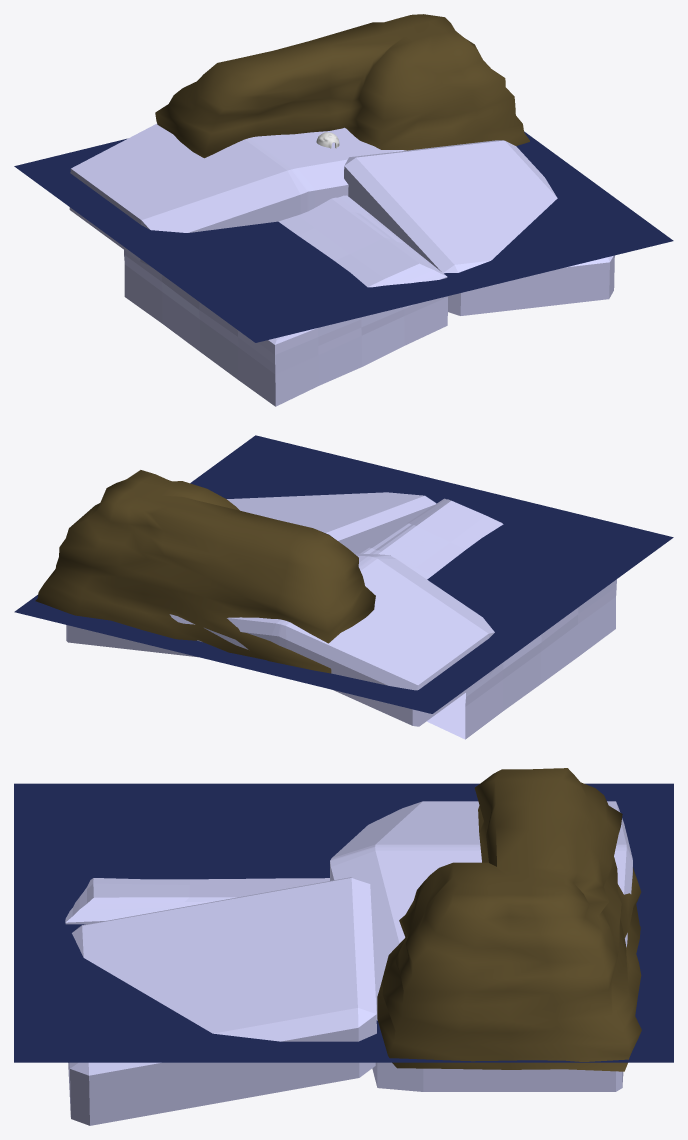
File: Prototype_Base.fbx
3 views of the same model, one above another, from view 1: azimuth 30°, elevation 25°; view 2: azimuth 150°, elevation 25°; view 3: azimuth 270°, elevation 25° (orthographic). The views are drawn at different scales.
Visible parts, largest first — view 1: igloo, Cube.003, Cube.002, Cube.001, Cube; view 2: Cube.003, igloo, Cube, Cube.001, Cube.002; view 3: igloo, Cube.003, Cube.002, Cube, Cube.001.
Part boxes in pixels (x1=…): igloo: x1=14, y1=131, x2=673, y2=342; Cube.003: x1=155, y1=14, x2=529, y2=158; Cube.002: x1=344, y1=140, x2=614, y2=315; Cube.001: x1=124, y1=195, x2=447, y2=406; Cube: x1=69, y1=123, x2=406, y2=266; Cube.003: x1=35, y1=470, x2=375, y2=673; igloo: x1=14, y1=435, x2=673, y2=713; Cube: x1=66, y1=553, x2=495, y2=726; Cube.001: x1=360, y1=498, x2=616, y2=739; Cube.002: x1=227, y1=492, x2=436, y2=553; igloo: x1=14, y1=783, x2=673, y2=1062; Cube.003: x1=377, y1=768, x2=641, y2=1071; Cube.002: x1=68, y1=877, x2=376, y2=1125; Cube: x1=330, y1=801, x2=632, y2=1091; Cube.001: x1=65, y1=878, x2=329, y2=924.
Size of the model in its own units: 14675 by 6065 by 14534.
